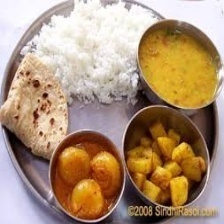sabzi: (124, 118, 207, 208)
